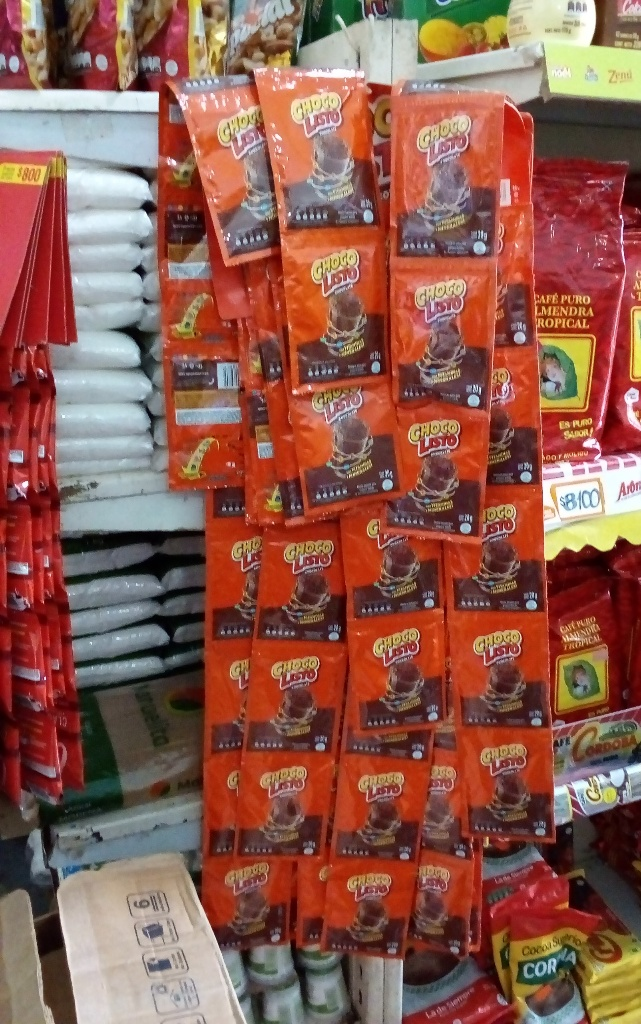COL0170103SOB02000: (168, 70, 305, 266)
